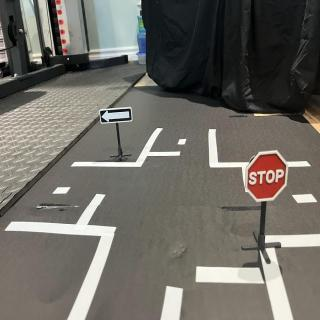sign_oneway_left: (100, 106, 134, 127)
sign_stop: (246, 152, 289, 202)
